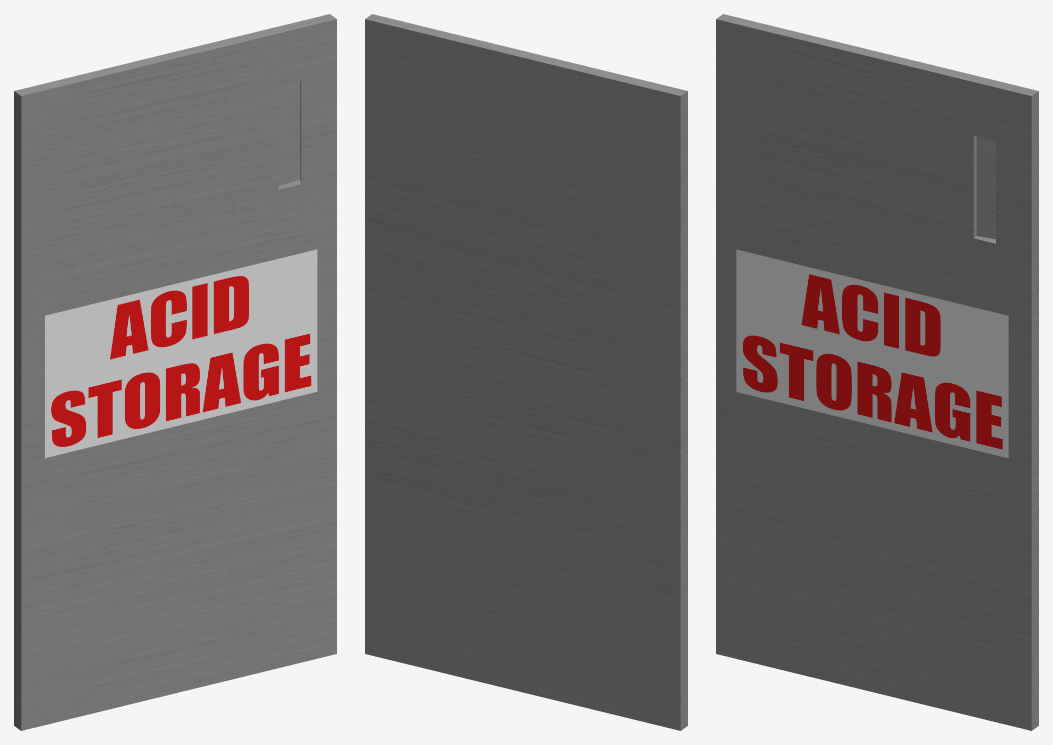
File: acidcab_a.gltf
3 views of the same model, side by side, from view 1: azimuth 30°, elevation 25°; view 2: azimuth 150°, elevation 25°; view 3: azimuth 330°, elevation 25° (orthographic).
Parts seen in each view (by area): view 1: drawer_j1.006_Cube.049, sign_acidstorage_Plane.005; view 2: drawer_j1.006_Cube.049; view 3: drawer_j1.006_Cube.049, sign_acidstorage_Plane.005.
Part boxes in pixels (<box>): drawer_j1.006_Cube.049: <box>14,14,336,730</box>; sign_acidstorage_Plane.005: <box>45,249,317,457</box>; drawer_j1.006_Cube.049: <box>365,14,687,730</box>; drawer_j1.006_Cube.049: <box>716,14,1038,730</box>; sign_acidstorage_Plane.005: <box>736,249,1008,458</box>.
Bounding box in the file's own units: 1.85 × 3.56 × 0.0896.
Materials: 2 (2 with a texture image).
